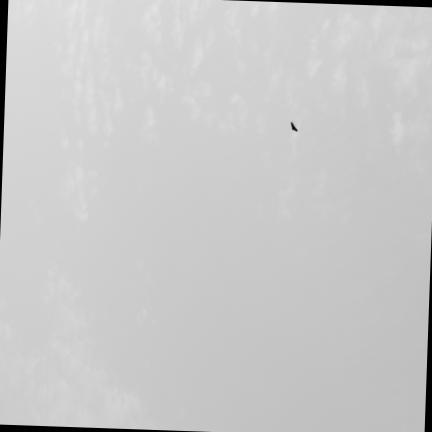Shahed: (290, 123, 297, 132)
